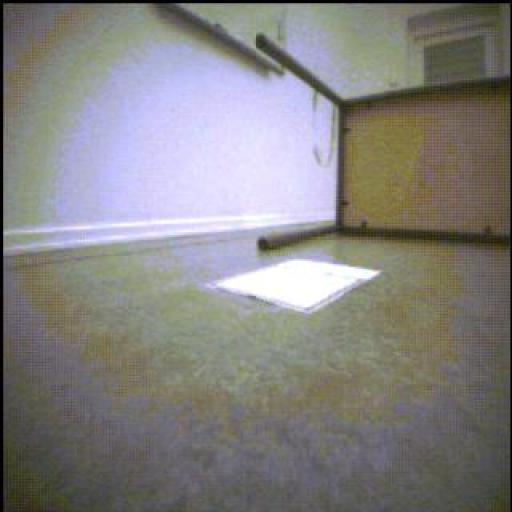Pad: (209, 260, 382, 315)
